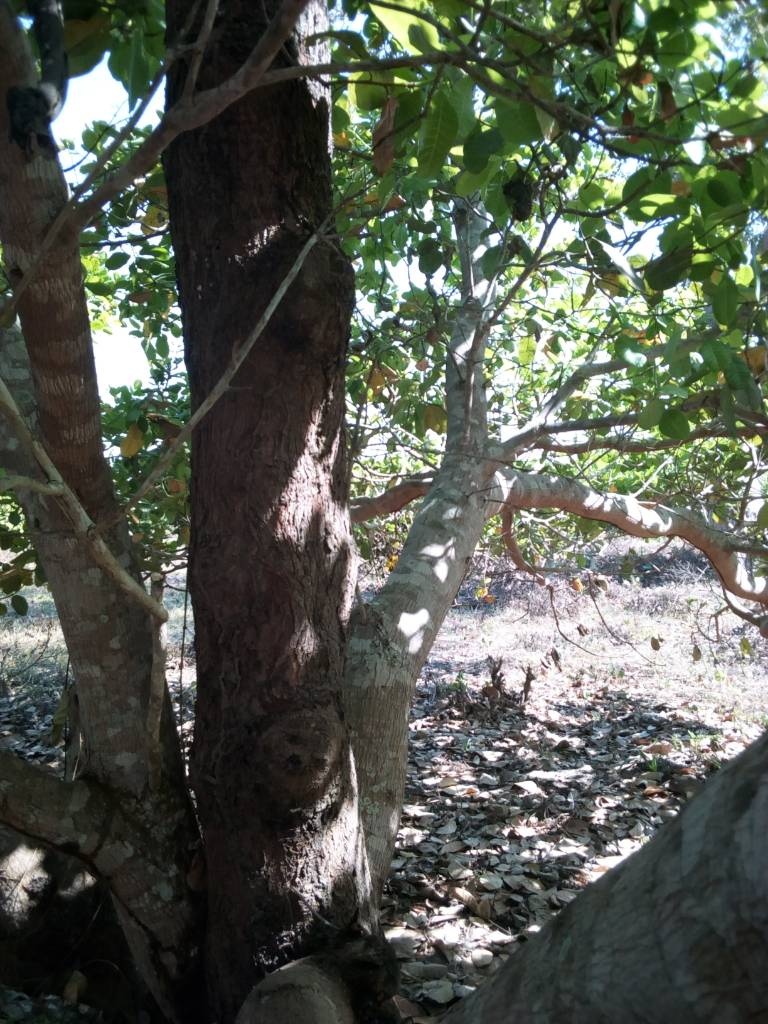Termites: (189, 133, 340, 686), (194, 717, 357, 925)
